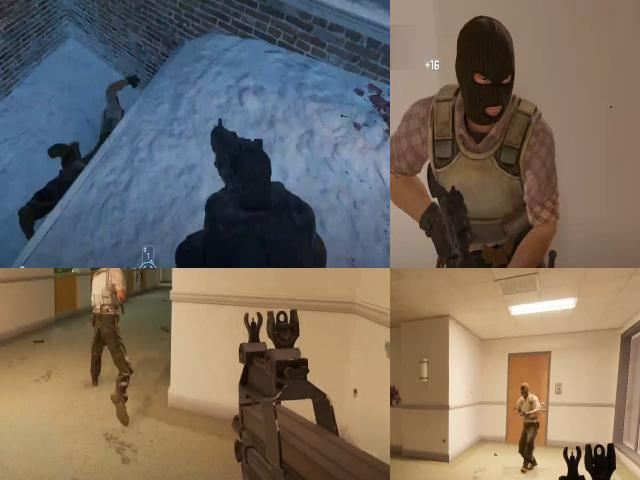Dead: (17, 61, 124, 221)
T: (390, 5, 561, 268), (84, 268, 125, 327), (518, 386, 543, 450)
T-Head: (449, 10, 525, 143), (518, 382, 532, 400), (96, 268, 123, 276)
